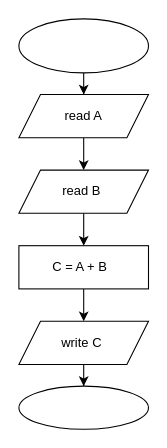
This 167x448 diagram has some shape labels left out. The shapes that lost their labels are listed below. From the top down, each one's centre as x and y in pixels, then its label:
the point at 83,45: start
the point at 83,407: stop
